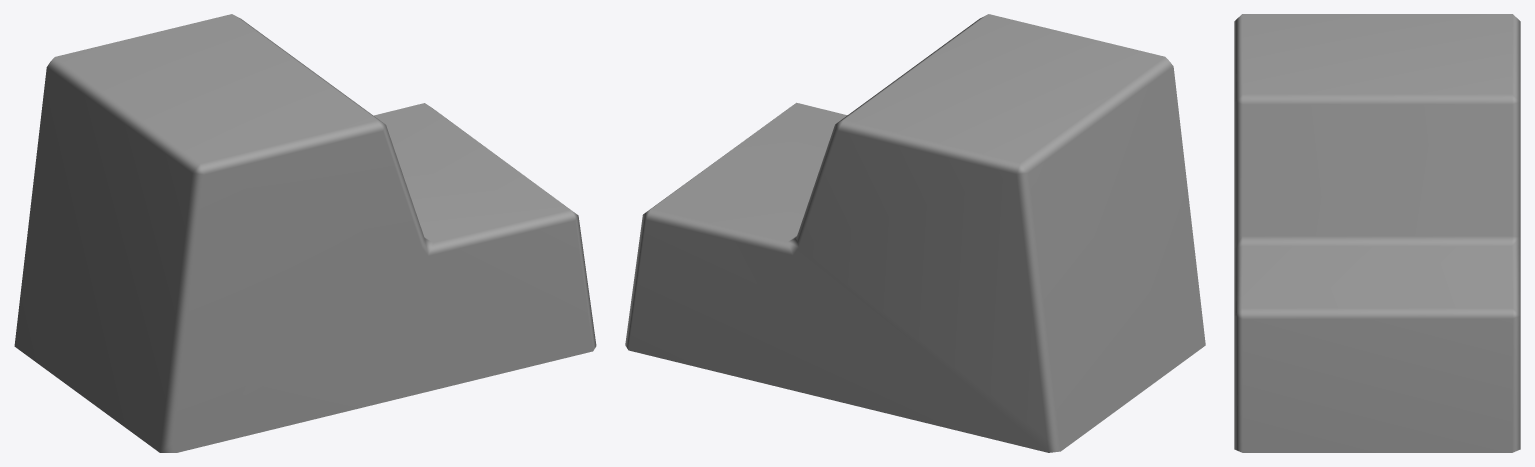
File: Farm_11_Stone_1.glb
3 renders of one model, left to right at view 1: azimuth 30°, elevation 25°; view 2: azimuth 150°, elevation 25°; view 3: azimuth 270°, elevation 25°, orthographic. The views are drawn at different scales.
Visible parts, largest first — view 1: Farm_11_Stone_1; view 2: Farm_11_Stone_1; view 3: Farm_11_Stone_1.
Boxes of the visible parts, x1,y1,x2,y2 form: Farm_11_Stone_1: (14, 14, 596, 452); Farm_11_Stone_1: (625, 14, 1205, 452); Farm_11_Stone_1: (1234, 14, 1520, 452).
Bounding box in the file's own units: 0.8515 × 0.5206 × 0.5206.
1 material, 1 textured.
